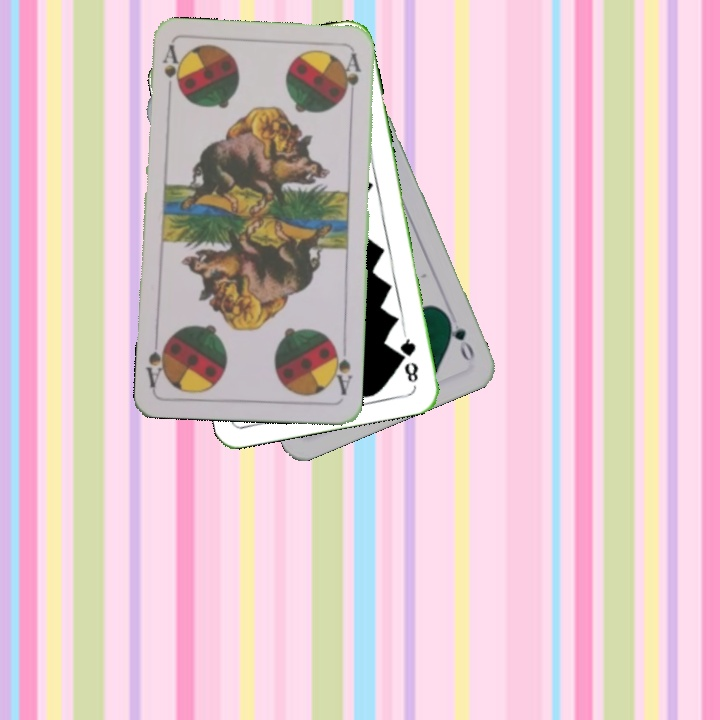G8: (396, 329, 421, 385)
GO: (441, 310, 477, 365)
SA: (328, 339, 355, 398), (158, 42, 182, 101)
